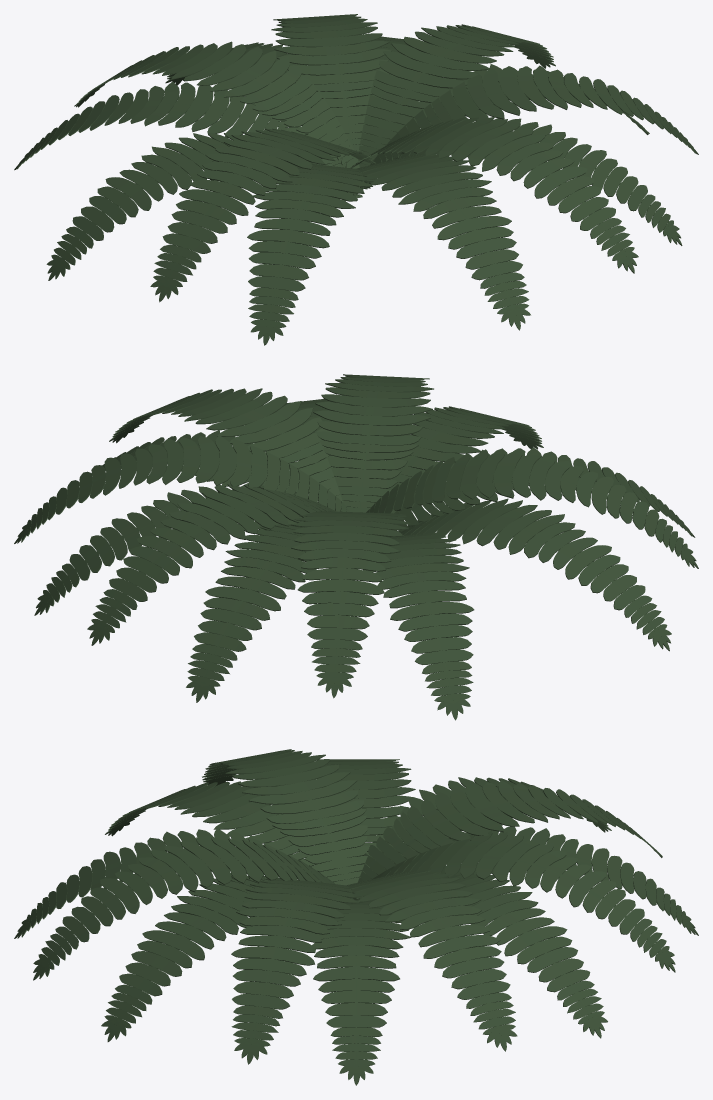
File: bush.fbx
3 renders of one model, top to bottom at view 1: azimuth 30°, elevation 25°; view 2: azimuth 150°, elevation 25°; view 3: azimuth 270°, elevation 25°, orthographic.
Parts seen in each view (by area): view 1: Plane.015; view 2: Plane.015; view 3: Plane.015.
Boxes of the visible parts, <box> form: Plane.015: <box>14,14,698,345</box>; Plane.015: <box>14,374,698,720</box>; Plane.015: <box>14,749,698,1085</box>.
Bounding box in the file's own units: 723 × 121 × 704.
Materials: 1 (1 with a texture image).
